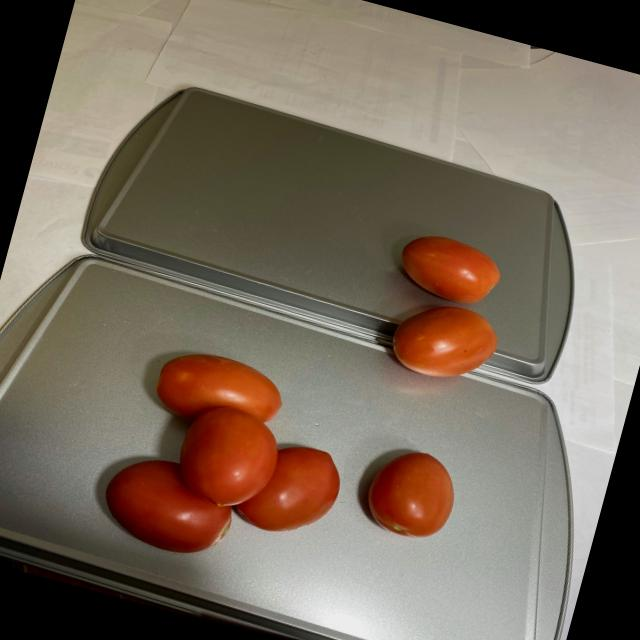tomato: (88, 334, 482, 622), (372, 226, 518, 398)
